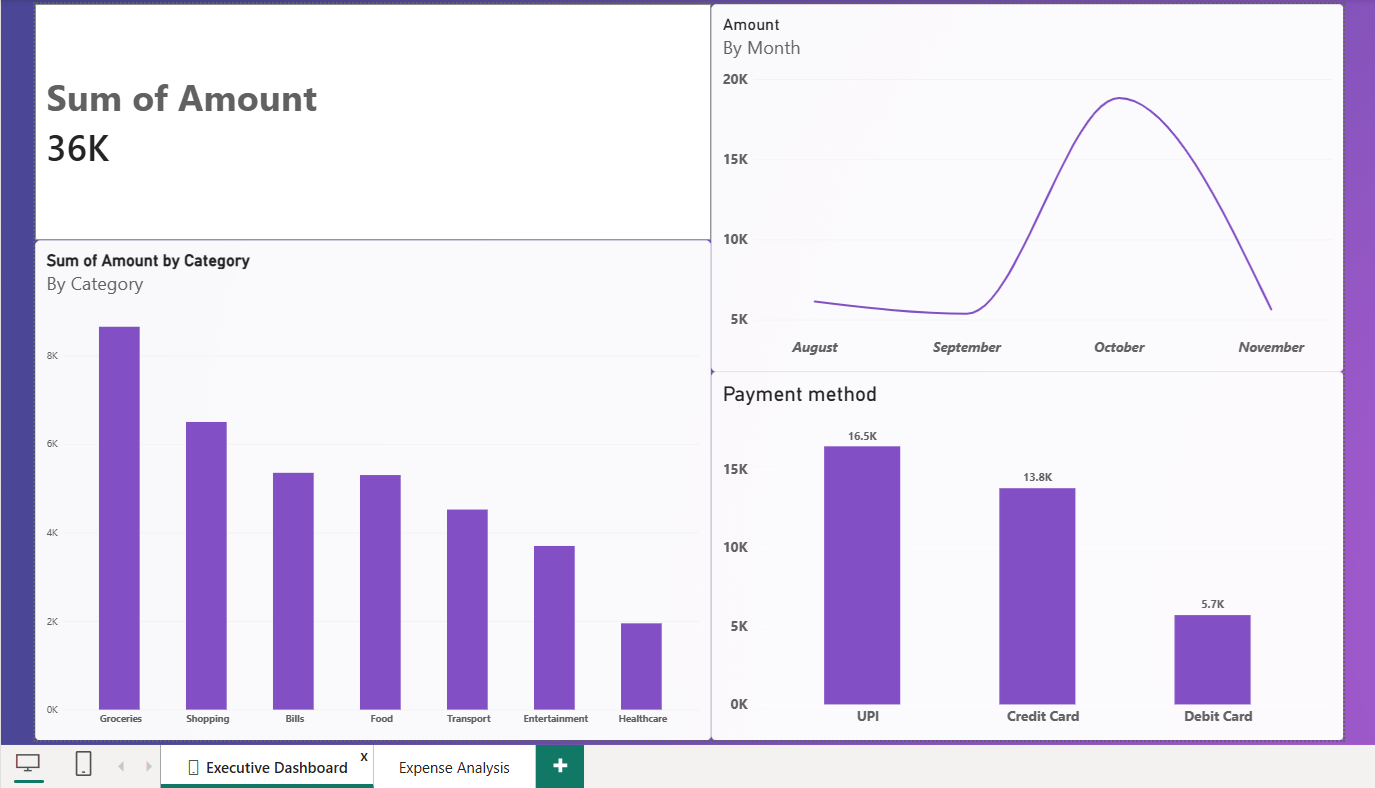

What the dashboard file says about the page in this screenshot:
{"tool":"powerbi","page":{"name":"Executive Dashboard","canvas":[1920,1080],"ordinal":0},"visuals":[{"type":"cardVisual","fields":{"Data":["Sum(Expense_Tracker.Amount)"]},"box":[0,0,992,346],"z":0},{"type":"clusteredColumnChart","fields":{"Category":["Expense_Tracker.Category"],"Y":["Sum(Expense_Tracker.Amount)"]},"box":[0,346,992,734],"z":1000},{"type":"clusteredColumnChart","title":"Payment method","fields":{"Category":["Expense_Tracker.Payment_Method"],"Y":["Sum(Expense_Tracker.Amount)"]},"box":[992.1,539.3,928.3,541.3],"z":2000},{"type":"lineChart","title":"Amount","fields":{"Category":["Expense_Tracker.Date.Variation.Date Hierarchy.Month"],"Y":["Sum(Expense_Tracker.Amount)"]},"box":[992,0,928,540],"z":3000}]}

Visuals, with their boxes on the page's 1920x1080 design canvas (x1, y1, x2, y2). These are canvas units, not pixel positions in the 1375x788 screenshot, which may show the page scaled, cropped or inside an application window:
cardVisual - Sum(Expense_Tracker.Amount): [0,0,992,346]
clusteredColumnChart - Expense_Tracker.Category x Sum(Expense_Tracker.Amount): [0,346,992,1080]
"Payment method" clusteredColumnChart: [992,539,1920,1081]
"Amount" lineChart: [992,0,1920,540]
